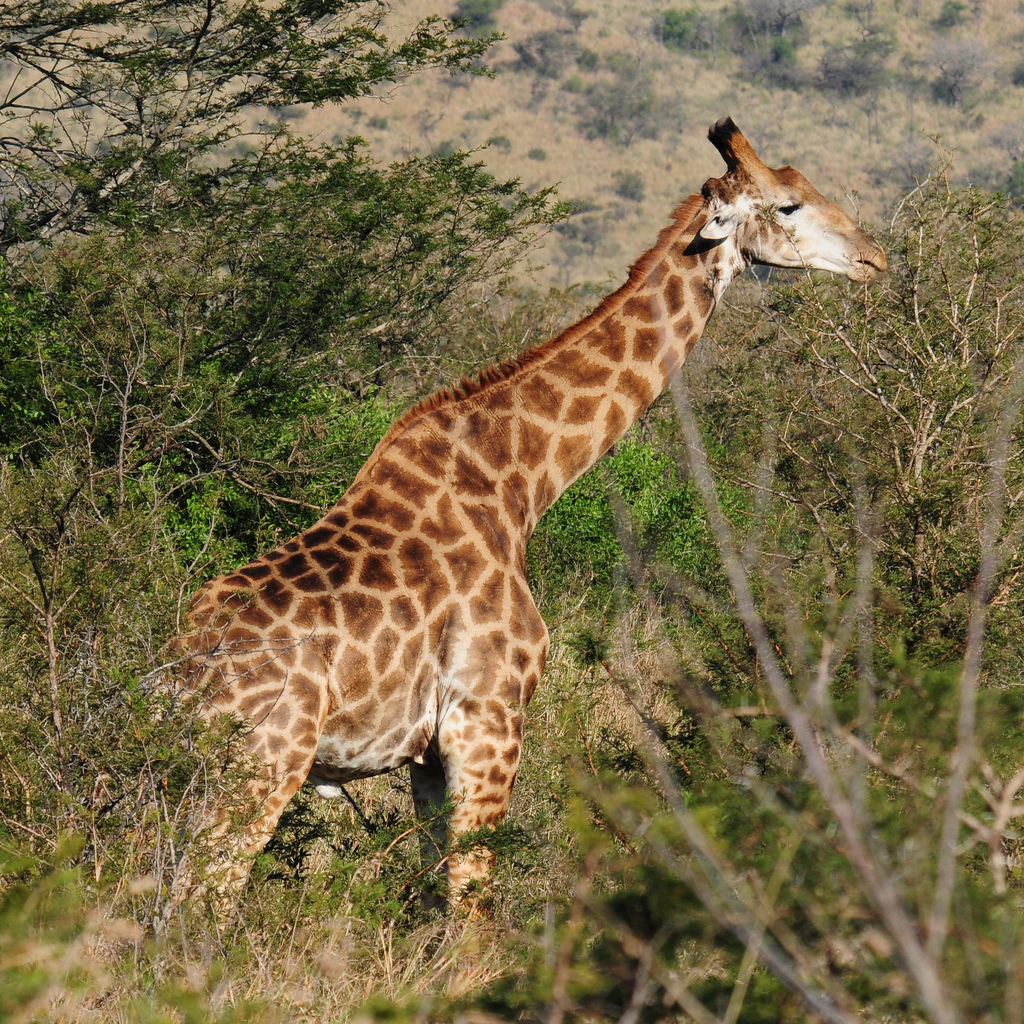giraffe: (106, 125, 883, 932)
